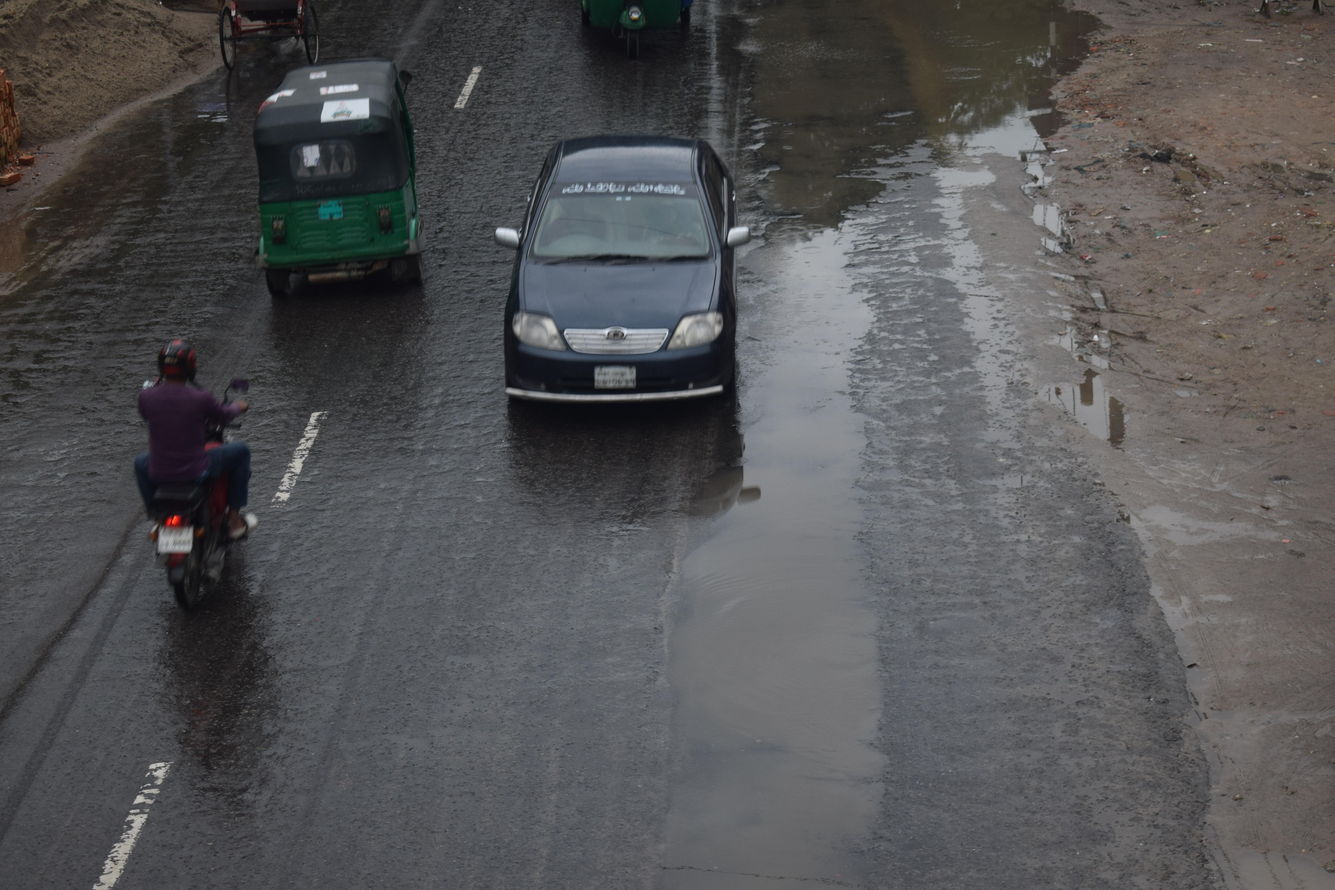Bike: (85, 317, 324, 653)
Car: (445, 88, 801, 485)
